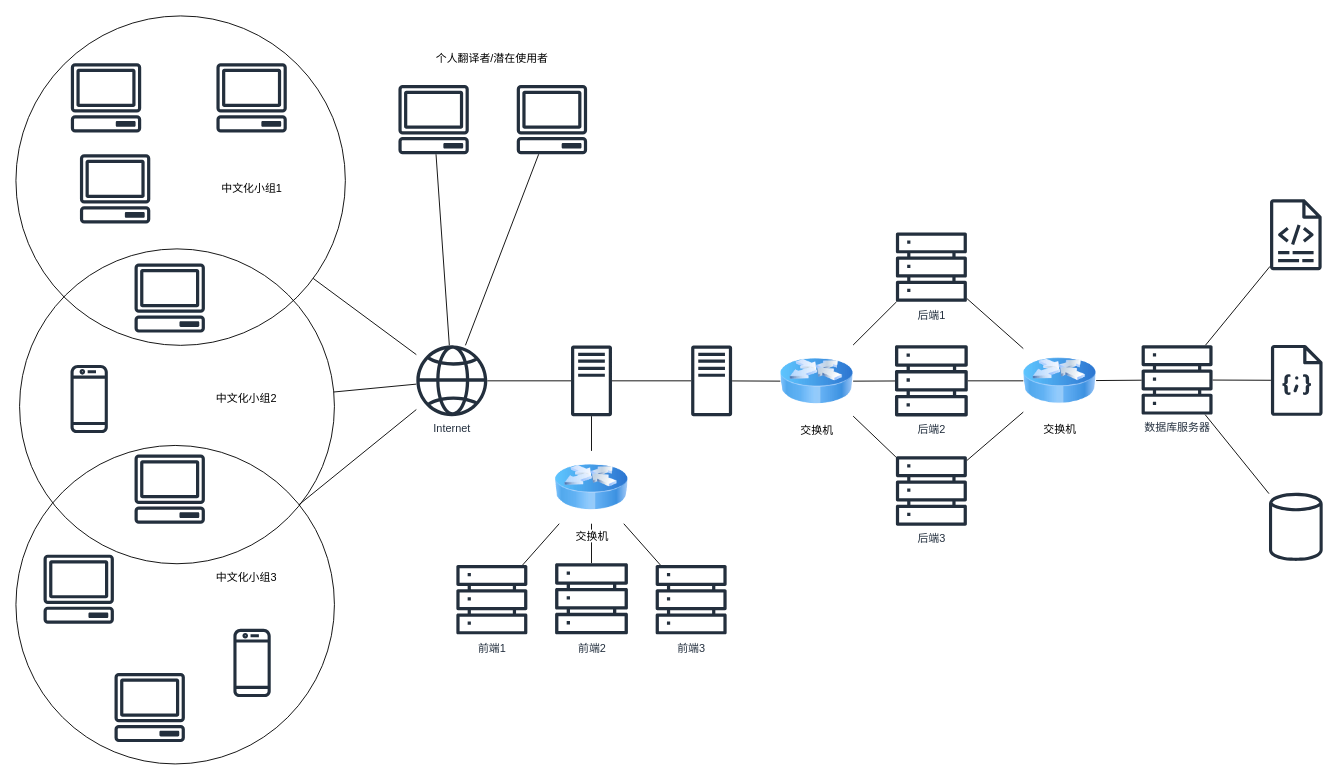
The diagram is 1339 pixels wide and 780 high, and some of its shapes have lost their labels. The box of each missing label's shape, as (x1, y1, x2, y2) in pixels:
Log: (1269, 199, 1321, 270)
前端负载均衡: (571, 345, 612, 416)
后端防火墙/负载均衡: (691, 345, 732, 416)
用户数据: (1269, 491, 1322, 562)
项目数据: (1270, 344, 1322, 415)
